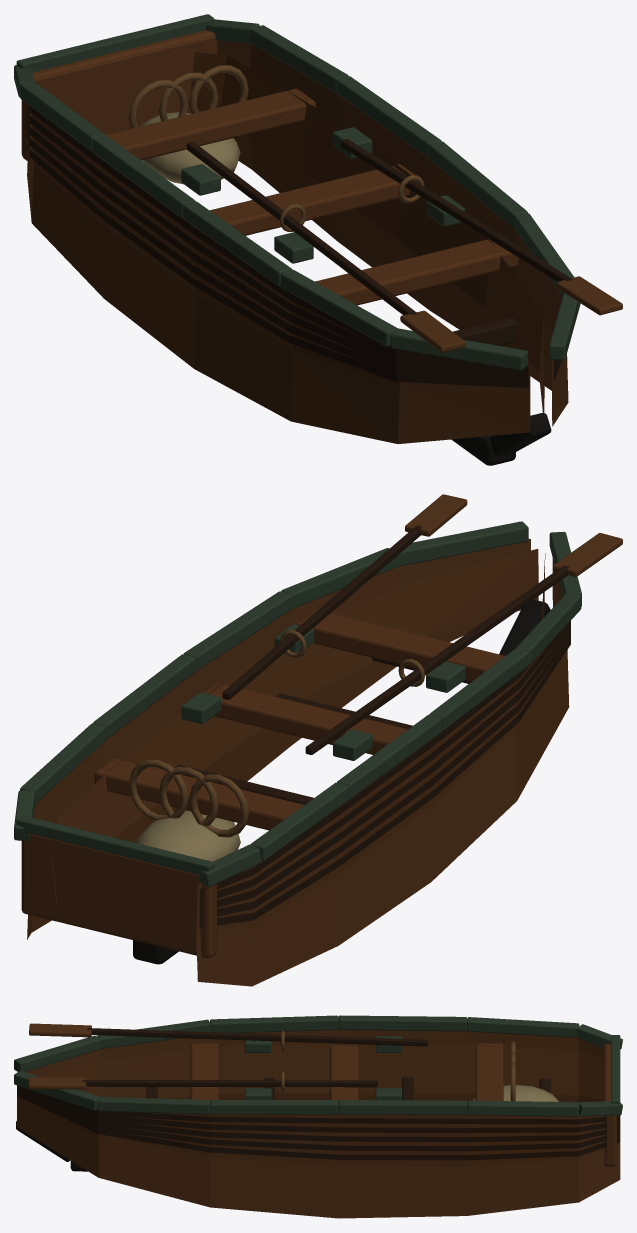
File: lighthouse-workboat.glb
3 renders of one model, top to bottom at view 1: azimuth 30°, elevation 25°; view 2: azimuth 150°, elevation 25°; view 3: azimuth 270°, elevation 25°, orthographic. The views are drawn at different scales.
Visible parts, largest first — view 1: LighthouseWorkboat_OakAssembly, LighthouseWorkboat_TrimAssembly, LighthouseWorkboat_OakDarkAssembly, LighthouseWorkboat_RopeAssembly, LighthouseWorkboat_TarAssembly, LighthouseWorkboat_CanvasAssembly; view 2: LighthouseWorkboat_OakAssembly, LighthouseWorkboat_TrimAssembly, LighthouseWorkboat_OakDarkAssembly, LighthouseWorkboat_RopeAssembly, LighthouseWorkboat_CanvasAssembly, LighthouseWorkboat_TarAssembly; view 3: LighthouseWorkboat_OakAssembly, LighthouseWorkboat_OakDarkAssembly, LighthouseWorkboat_TrimAssembly, LighthouseWorkboat_CanvasAssembly, LighthouseWorkboat_RopeAssembly, LighthouseWorkboat_TarAssembly.
Boxes of the visible parts, left/top/right/bottom form: LighthouseWorkboat_OakAssembly: left=21, top=30, right=622, bottom=443; LighthouseWorkboat_TrimAssembly: left=14, top=14, right=580, bottom=370; LighthouseWorkboat_OakDarkAssembly: left=27, top=104, right=572, bottom=387; LighthouseWorkboat_RopeAssembly: left=128, top=65, right=424, bottom=231; LighthouseWorkboat_TarAssembly: left=451, top=413, right=551, bottom=465; LighthouseWorkboat_CanvasAssembly: left=139, top=112, right=240, bottom=184; LighthouseWorkboat_OakAssembly: left=21, top=494, right=622, bottom=986; LighthouseWorkboat_TrimAssembly: left=14, top=521, right=581, bottom=887; LighthouseWorkboat_OakDarkAssembly: left=25, top=525, right=570, bottom=927; LighthouseWorkboat_RopeAssembly: left=128, top=630, right=424, bottom=837; LighthouseWorkboat_CanvasAssembly: left=136, top=810, right=240, bottom=861; LighthouseWorkboat_TarAssembly: left=133, top=599, right=550, bottom=964; LighthouseWorkboat_OakAssembly: left=17, top=1023, right=620, bottom=1218; LighthouseWorkboat_OakDarkAssembly: left=17, top=1028, right=620, bottom=1160; LighthouseWorkboat_TrimAssembly: left=14, top=1015, right=622, bottom=1116; LighthouseWorkboat_CanvasAssembly: left=472, top=1085, right=558, bottom=1101; LighthouseWorkboat_RopeAssembly: left=281, top=1030, right=515, bottom=1101; LighthouseWorkboat_TarAssembly: left=16, top=1121, right=87, bottom=1171.
Size of the model in its own units: 1.89 by 1.25 by 5.45.
